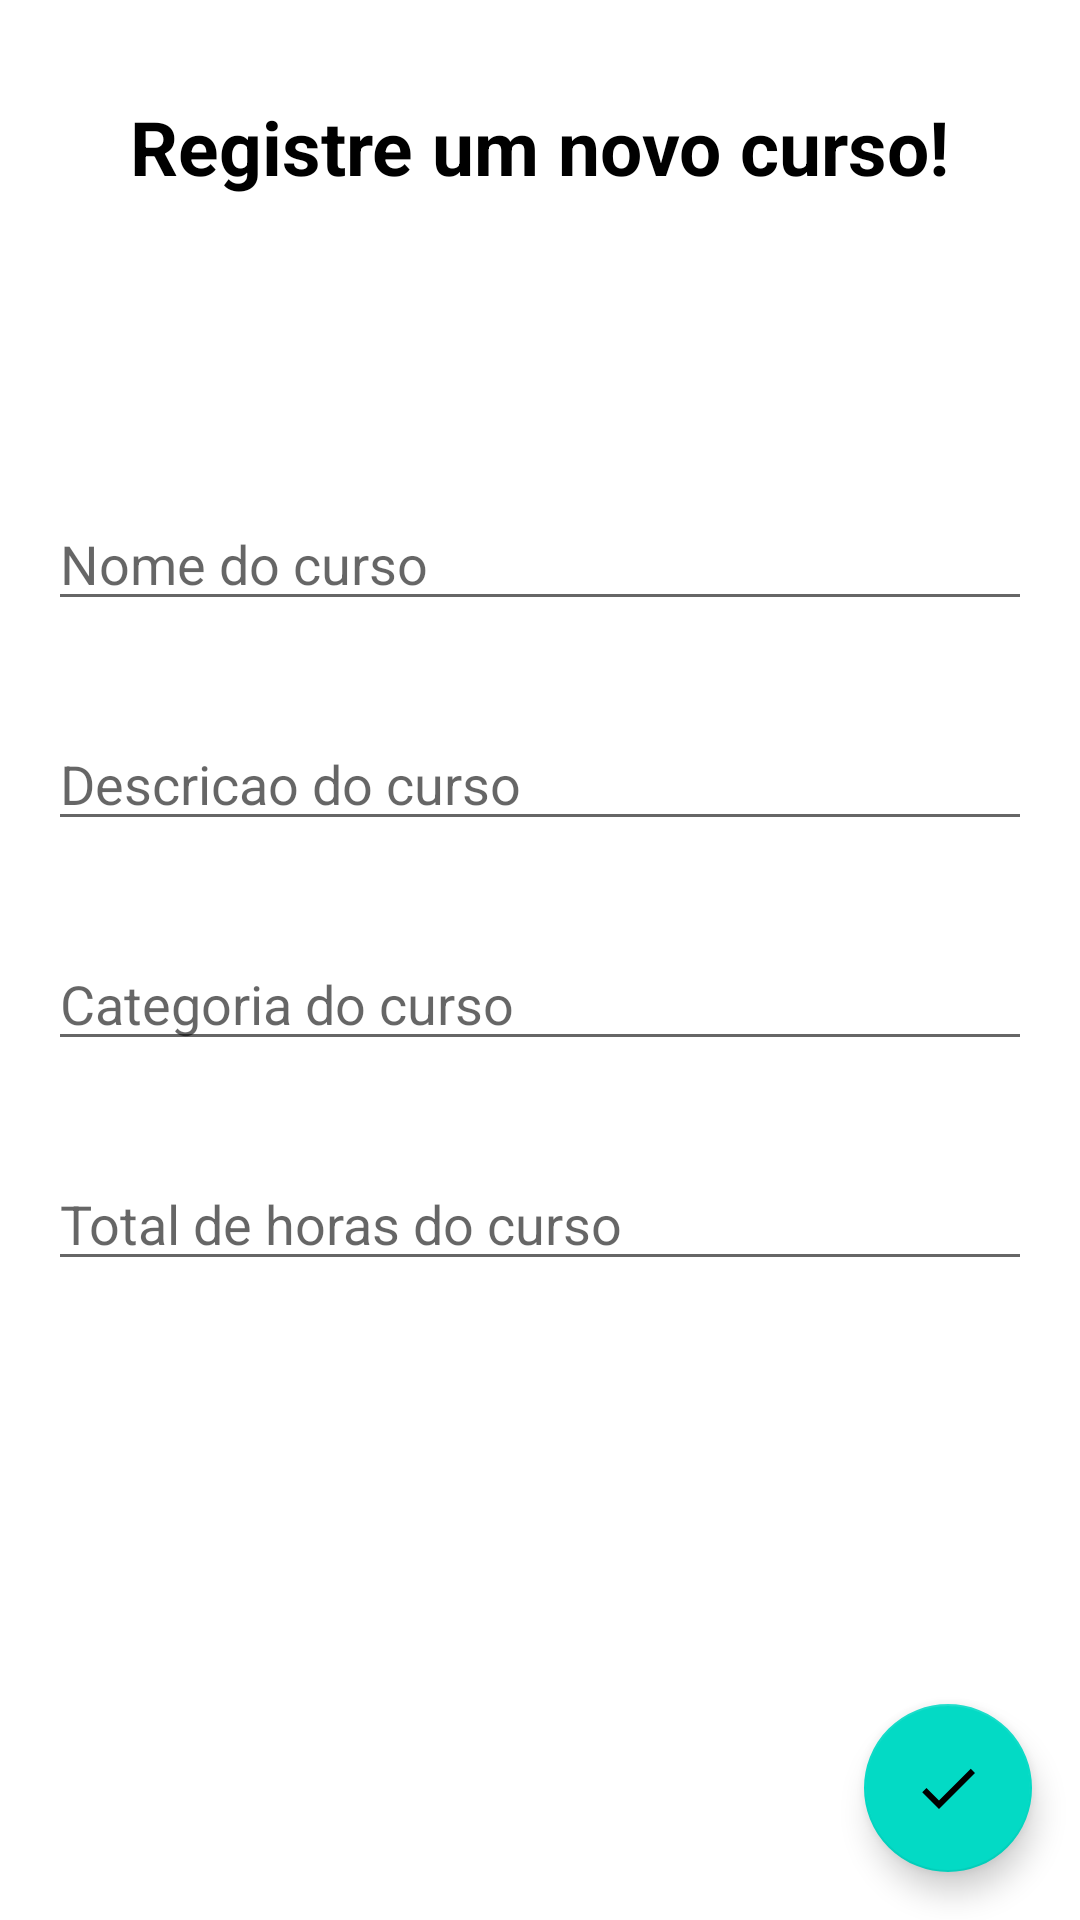

Where icons sit on this 1080*1920 app screen, as (x1, y1, x2, y2):
confirmar branco: (864, 1704, 1032, 1872)
